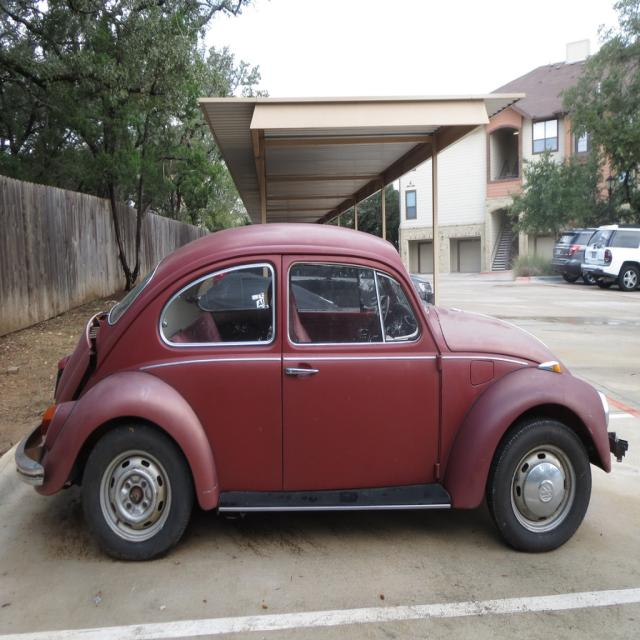car: (12, 218, 633, 563)
